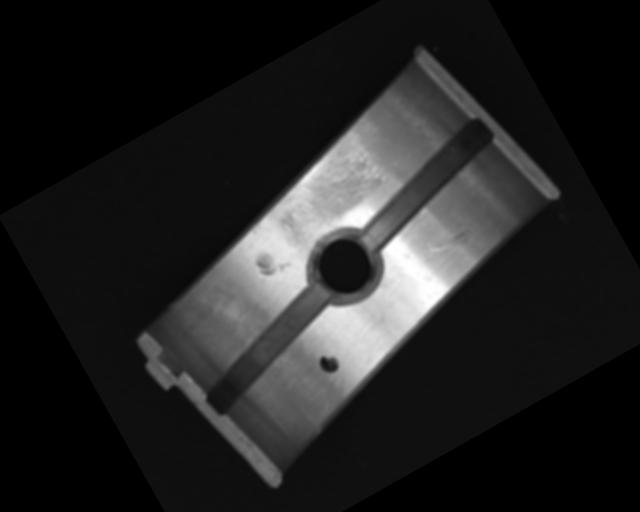blot: (316, 350, 342, 377)
bruise: (251, 241, 294, 282), (247, 218, 266, 236)
gap: (182, 279, 354, 419), (338, 116, 511, 253)
hole: (295, 215, 395, 317)
nick: (419, 224, 475, 266)
scratch: (256, 133, 398, 254)
